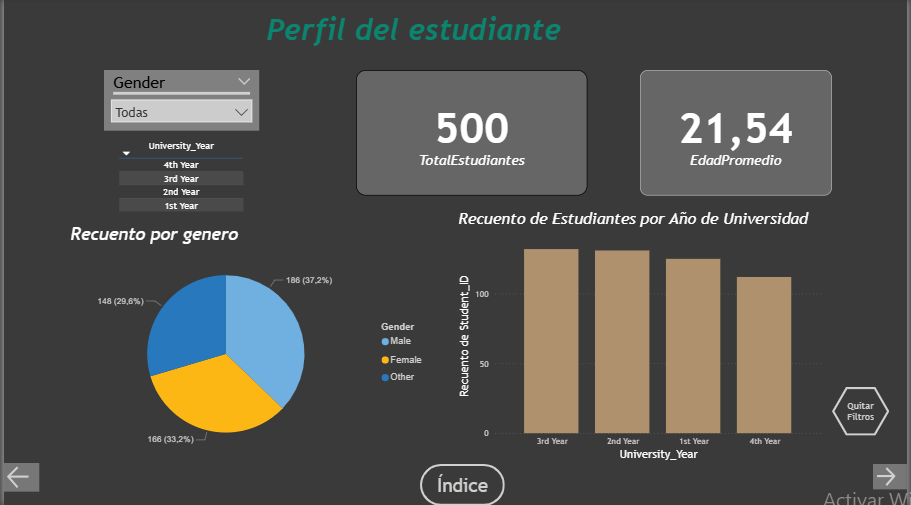

This screenshot's page, from the dashboard's own definition file:
{"tool":"powerbi","page":{"name":"Estudiantes","canvas":[1280,720],"ordinal":3},"visuals":[{"type":"textbox","box":[367.3,14.1,506.4,59.4],"z":0},{"type":"card","fields":{"Values":["HabitosSueño.TotalEstudiantes"]},"box":[498.6,101.6,328.2,178.2],"z":1000},{"type":"card","fields":{"Values":["Estudiante.EdadPromedio"]},"box":[901.8,101.6,272,178.2],"z":2000},{"type":"pieChart","title":"Recuento por genero","fields":{"Y":["CountNonNull(Estudiante.Gender)"],"Category":["Estudiante.Gender"]},"box":[89.1,318.8,517.3,342.3],"z":3000},{"type":"clusteredColumnChart","title":"Recuento de Estudiantes por Año de Universidad ","fields":{"Category":["Estudiante.University_Year"],"Y":["CountNonNull(Estudiante.Student_ID)"]},"box":[639.3,298.5,525.2,361.1],"z":4000},{"type":"actionButton","box":[0,659.6,50,40.6],"z":5000},{"type":"actionButton","box":[1231.6,661.1,48.5,35.9],"z":6000},{"type":"actionButton","title":"Índice","box":[589.2,661.1,120.4,59.4],"z":7000},{"type":"slicer","fields":{"Values":["Estudiante.Gender"]},"box":[142.2,101.6,220.4,86],"z":8000},{"type":"tableEx","fields":{"Values":["Estudiante.University_Year"]},"box":[157.9,195.4,189.1,112.5],"z":9000},{"type":"actionButton","box":[1173.8,551.7,81.3,68.8],"z":10000},{"type":"image","box":[0,12.8,155.9,131.8],"z":10001}]}

Visuals, with their boxes on the page's 1280x720 design canvas (x1, y1, x2, y2). These are canvas units, not pixel positions in the 911x505 screenshot, which may show the page scaled, cropped or inside an application window:
textbox: crop(367, 14, 874, 74)
card - HabitosSueño.TotalEstudiantes: crop(499, 102, 827, 280)
card - Estudiante.EdadPromedio: crop(902, 102, 1174, 280)
"Recuento por genero" pieChart: crop(89, 319, 606, 661)
"Recuento de Estudiantes por Año de Universidad " clusteredColumnChart: crop(639, 298, 1164, 660)
actionButton: crop(0, 660, 50, 700)
actionButton: crop(1232, 661, 1280, 697)
"Índice" actionButton: crop(589, 661, 710, 720)
slicer - Estudiante.Gender: crop(142, 102, 363, 188)
tableEx - Estudiante.University_Year: crop(158, 195, 347, 308)
actionButton: crop(1174, 552, 1255, 620)
image: crop(0, 13, 156, 145)
